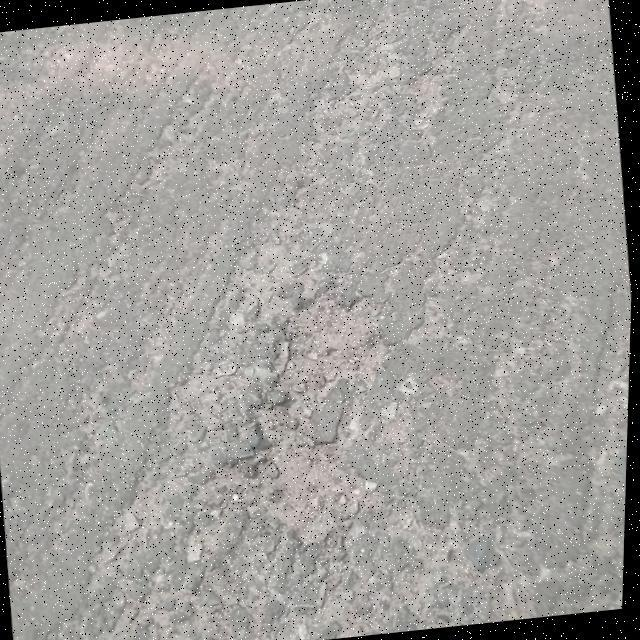pothole: (188, 239, 454, 569)
